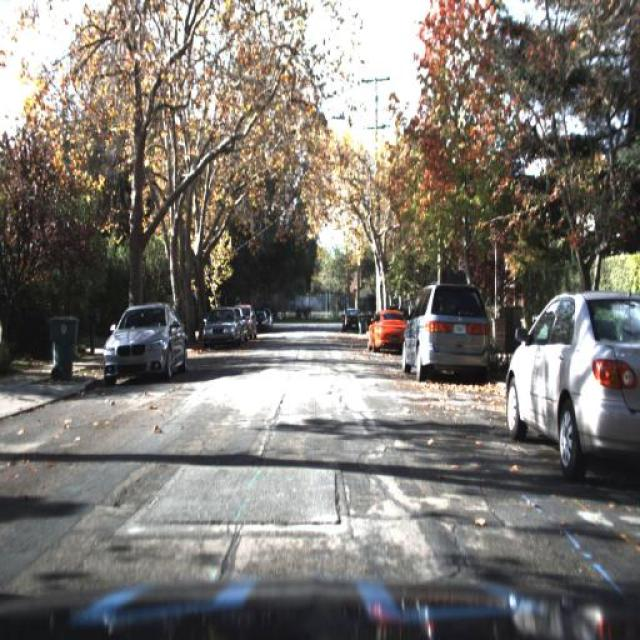car: (490, 266, 639, 474), (395, 264, 497, 390), (400, 274, 494, 385), (104, 300, 184, 390), (365, 308, 407, 352), (201, 308, 243, 342), (239, 302, 253, 347)
